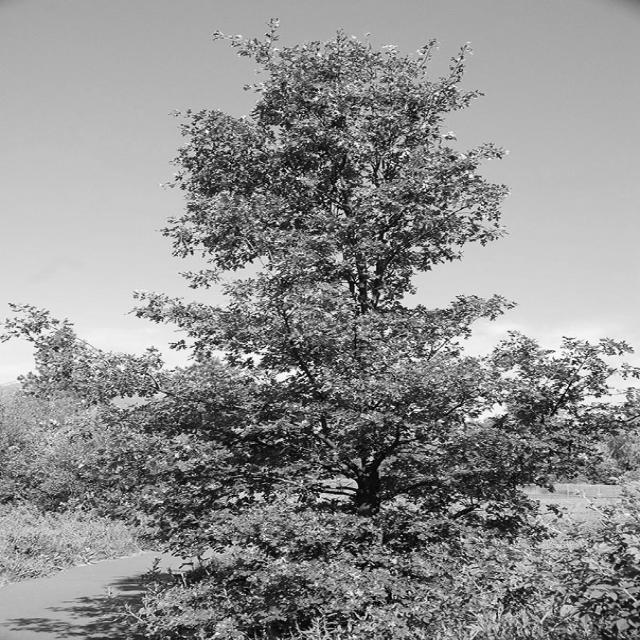Quercus kelloggii: (41, 12, 627, 587)
